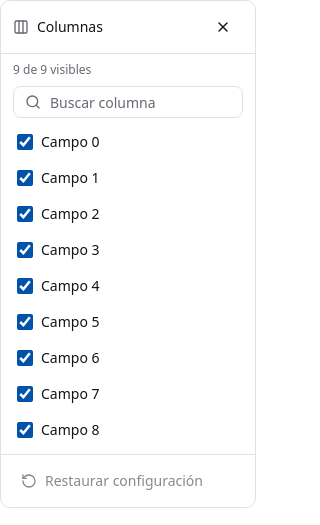
it: ColumnSettingsPanel › búsqueda de columnas › avisa cuando ninguna columna coincide
In the search field: (128, 102) top-left (13, 86), bottom-right (243, 118), type "inexistente"
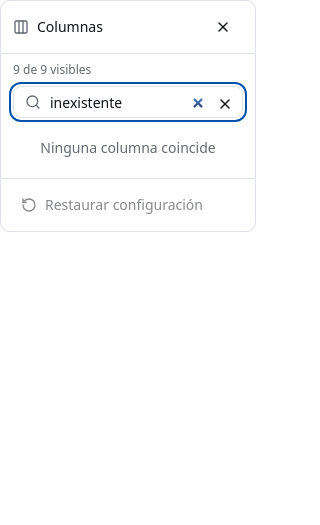
Result: the text "Ninguna columna coincide" is shown at top-left (40, 138), bottom-right (216, 157)
